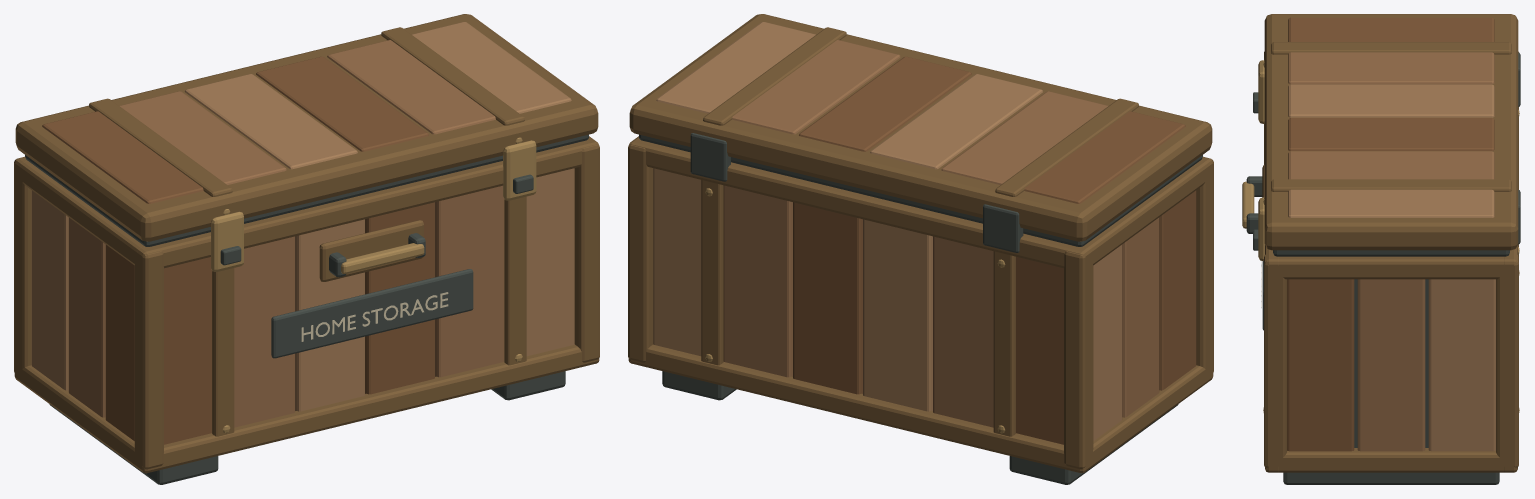
The model's file is home_storage_chest.glb.
3 renders of one model, left to right at view 1: azimuth 30°, elevation 25°; view 2: azimuth 150°, elevation 25°; view 3: azimuth 270°, elevation 25°, orthographic. The views are drawn at different scales.
Visible parts, largest first — view 1: home_storage_chest; view 2: home_storage_chest; view 3: home_storage_chest.
Boxes of the visible parts, left/top/right/bottom form: home_storage_chest: left=14, top=14, right=599, bottom=484; home_storage_chest: left=628, top=14, right=1213, bottom=484; home_storage_chest: left=1242, top=14, right=1520, bottom=484.
Bounding box in the file's own units: 1.5 × 0.9 × 0.822.
